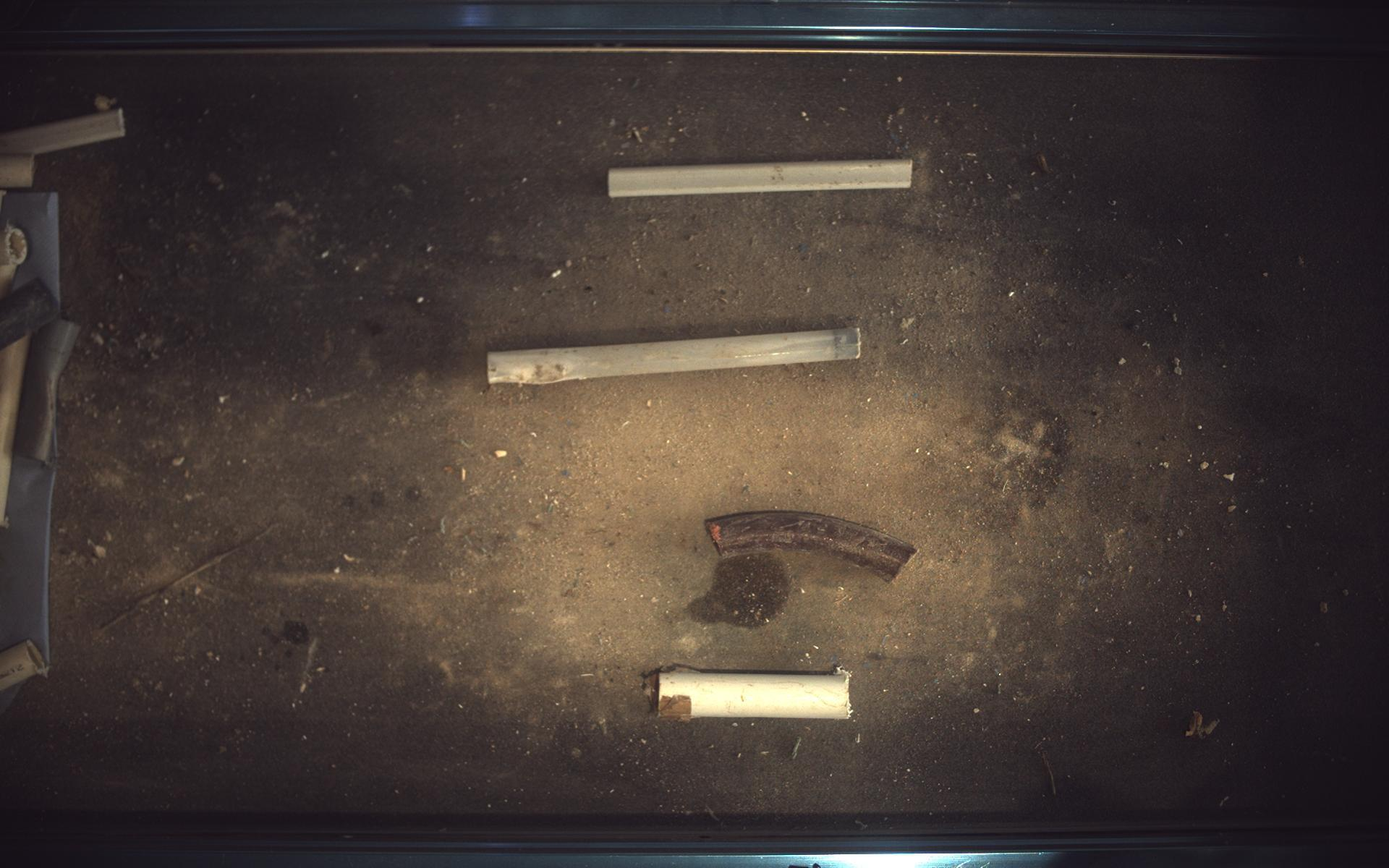pipes: (488, 328, 862, 384), (706, 511, 918, 582), (658, 670, 853, 721), (12, 318, 78, 464), (1, 334, 29, 527), (1, 641, 47, 692), (1, 224, 27, 286), (1, 154, 33, 188)
plastic: (609, 158, 914, 197), (1, 109, 124, 153)
